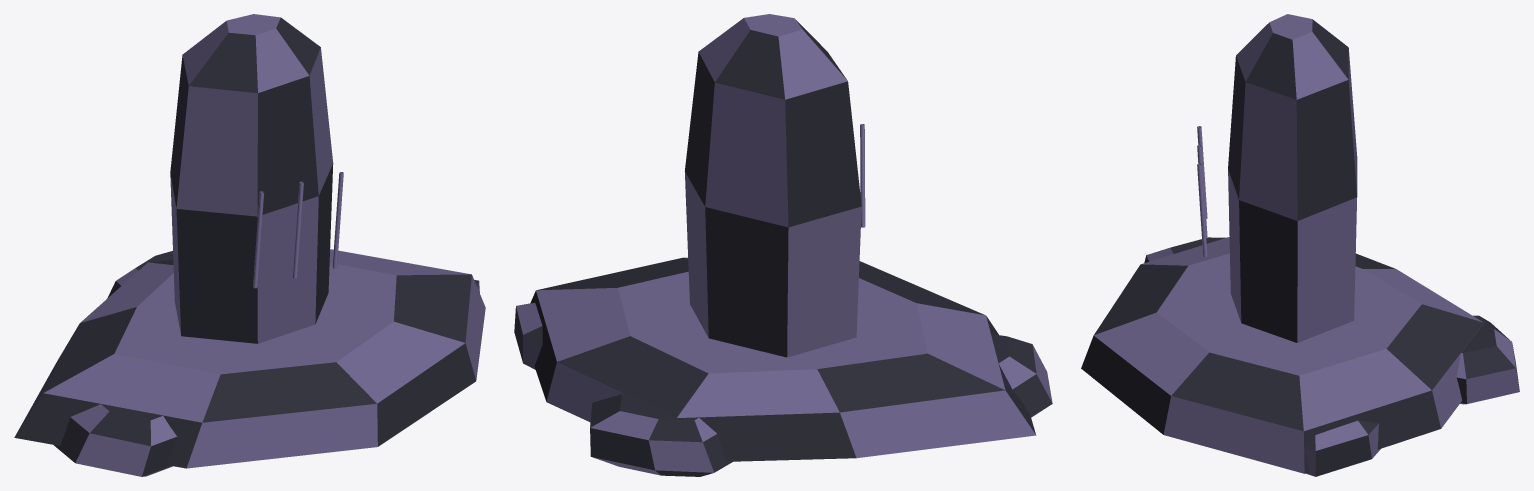
The model's file is BH_ORE_O21_Nullstone_V01.glb.
The picture shows the model from 3 angles, left to right: view 1: azimuth 30°, elevation 25°; view 2: azimuth 150°, elevation 25°; view 3: azimuth 270°, elevation 25°; orthographic projection. The views are drawn at different scales.
Parts seen in each view (by area): view 1: Bedrock | primary.001, Nullstone monolith.001, Bedrock | shoulder 1.001, Deep inscription 1.001, Deep inscription 3.001, Deep inscription 2.001; view 2: Bedrock | primary.001, Nullstone monolith.001, Bedrock | shoulder 3.001, Bedrock | shoulder 1.001, Bedrock | shoulder 2.001; view 3: Bedrock | primary.001, Nullstone monolith.001, Bedrock | shoulder 3.001, Bedrock | shoulder 2.001, Bedrock | shoulder 1.001, Deep inscription 3.001.
Boxes of the visible parts, x1,y1,x2,y2 form: Bedrock | primary.001: (14, 249, 485, 468); Nullstone monolith.001: (170, 14, 333, 343); Bedrock | shoulder 1.001: (54, 404, 177, 476); Deep inscription 1.001: (253, 191, 264, 288); Deep inscription 3.001: (332, 172, 343, 268); Deep inscription 2.001: (292, 181, 303, 278); Bedrock | primary.001: (530, 257, 1036, 461); Nullstone monolith.001: (684, 14, 861, 357); Bedrock | shoulder 3.001: (590, 393, 732, 476); Bedrock | shoulder 1.001: (991, 334, 1052, 417); Bedrock | shoulder 2.001: (514, 303, 542, 369); Bedrock | primary.001: (1081, 237, 1483, 473); Nullstone monolith.001: (1228, 14, 1357, 342); Bedrock | shoulder 3.001: (1456, 315, 1519, 404); Bedrock | shoulder 2.001: (1304, 420, 1380, 476); Bedrock | shoulder 1.001: (1144, 237, 1225, 262); Deep inscription 3.001: (1197, 163, 1207, 256).
Bounding box in the file's own units: 2.7 × 1.93 × 2.18.
